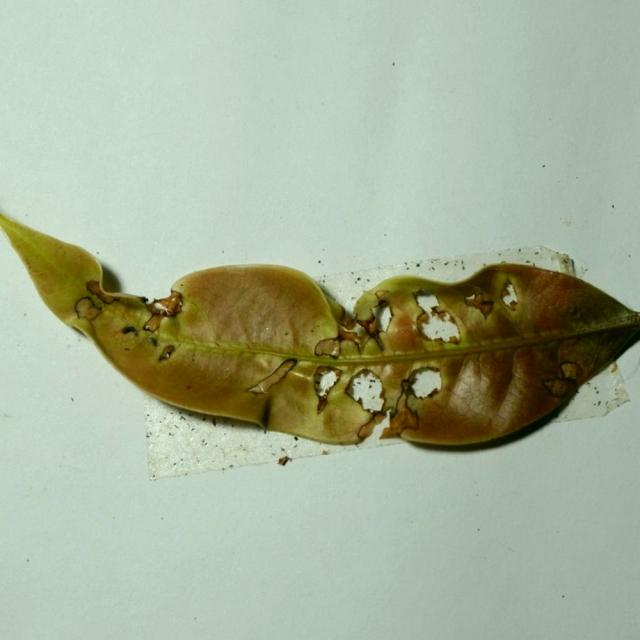Anthracnose: (241, 349, 299, 397), (413, 290, 462, 346), (137, 289, 184, 334), (381, 392, 421, 440), (345, 368, 387, 412), (85, 278, 140, 308), (402, 366, 444, 405), (540, 361, 583, 398), (312, 366, 343, 413), (355, 309, 385, 352), (464, 286, 496, 320), (557, 339, 588, 369), (356, 411, 386, 441), (370, 298, 392, 335), (74, 296, 103, 322), (337, 326, 363, 351), (414, 290, 441, 313), (314, 338, 341, 358), (559, 361, 581, 380), (502, 283, 518, 308), (143, 314, 162, 333), (158, 346, 174, 362), (316, 396, 328, 414), (374, 289, 391, 301), (249, 385, 267, 395), (277, 455, 291, 466), (147, 336, 157, 346)
Lemon: (8, 226, 609, 447)
